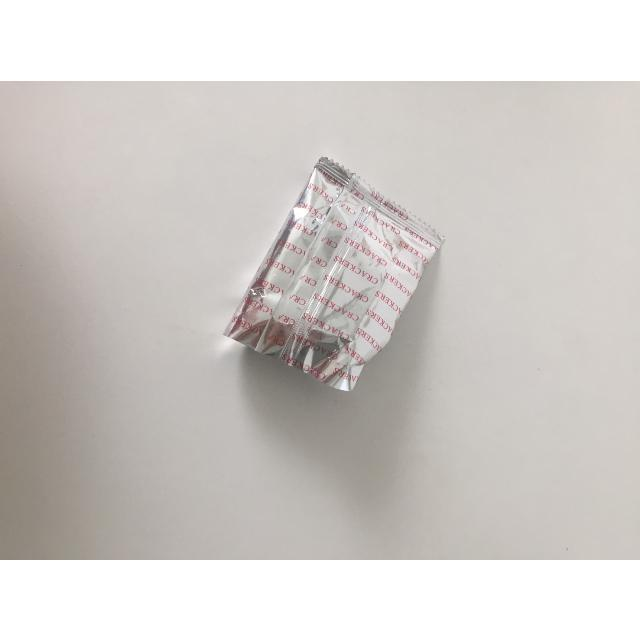Paquete de plastico: (203, 150, 450, 392)
